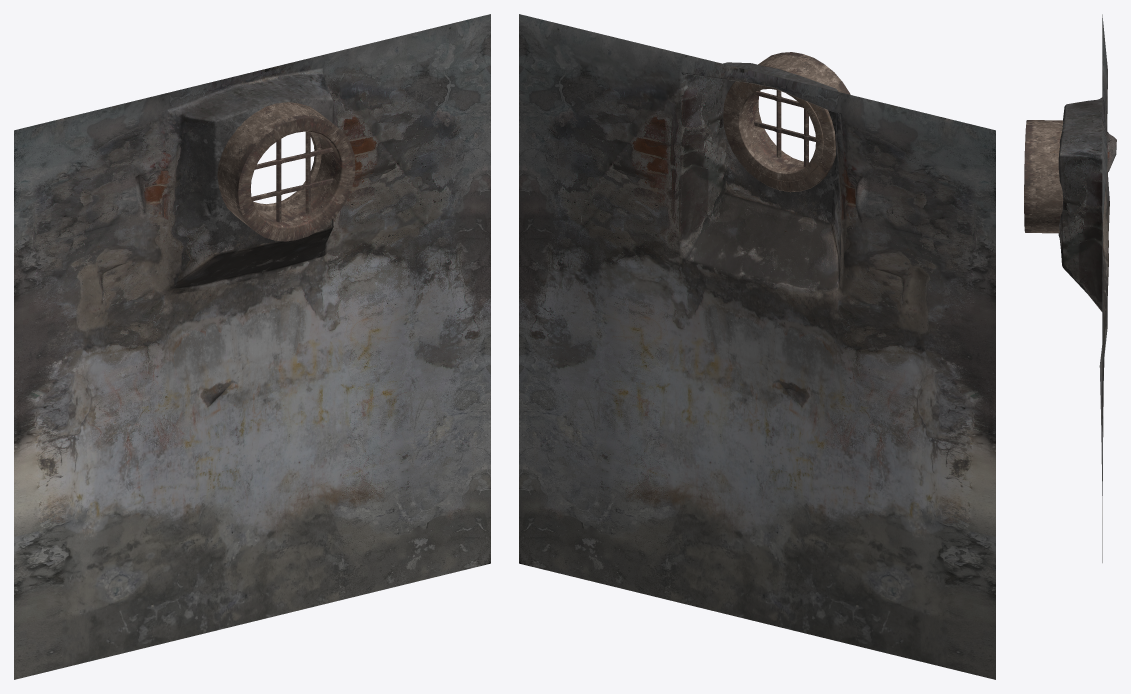
The model's file is SM_CryptWall_01_07.fbx.
The picture shows the model from 3 angles, left to right: view 1: azimuth 30°, elevation 25°; view 2: azimuth 150°, elevation 25°; view 3: azimuth 270°, elevation 25°; orthographic projection. The views are drawn at different scales.
Parts seen in each view (by area): view 1: sm_CryptWall_01_07_LOD0; view 2: sm_CryptWall_01_07_LOD0; view 3: sm_CryptWall_01_07_LOD0.
Part boxes in pixels (left/top/right/bottom): sm_CryptWall_01_07_LOD0: left=14, top=14, right=490, bottom=679; sm_CryptWall_01_07_LOD0: left=519, top=14, right=995, bottom=679; sm_CryptWall_01_07_LOD0: left=1024, top=14, right=1116, bottom=562.
Bounding box in the file's own units: 49.51 × 250 × 275.
